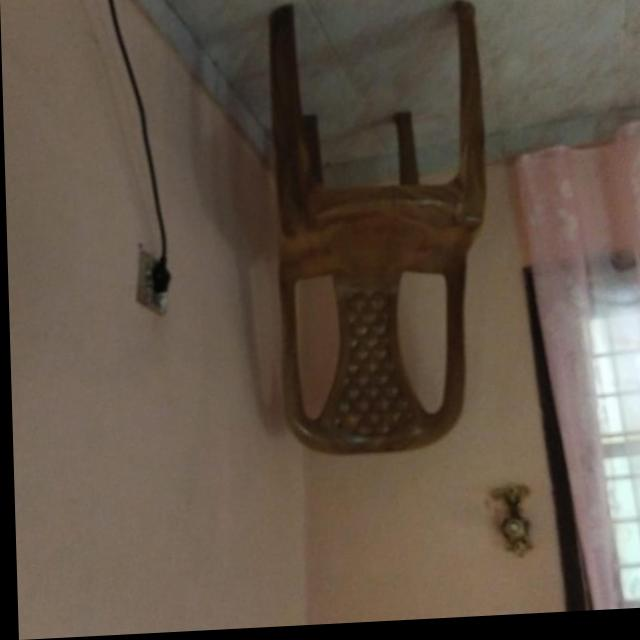Chair: (266, 0, 492, 462)
